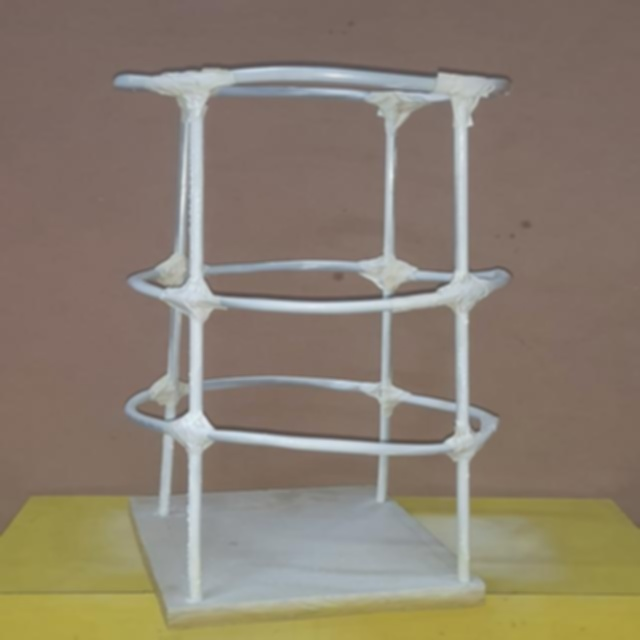silo: (122, 60, 507, 624)
